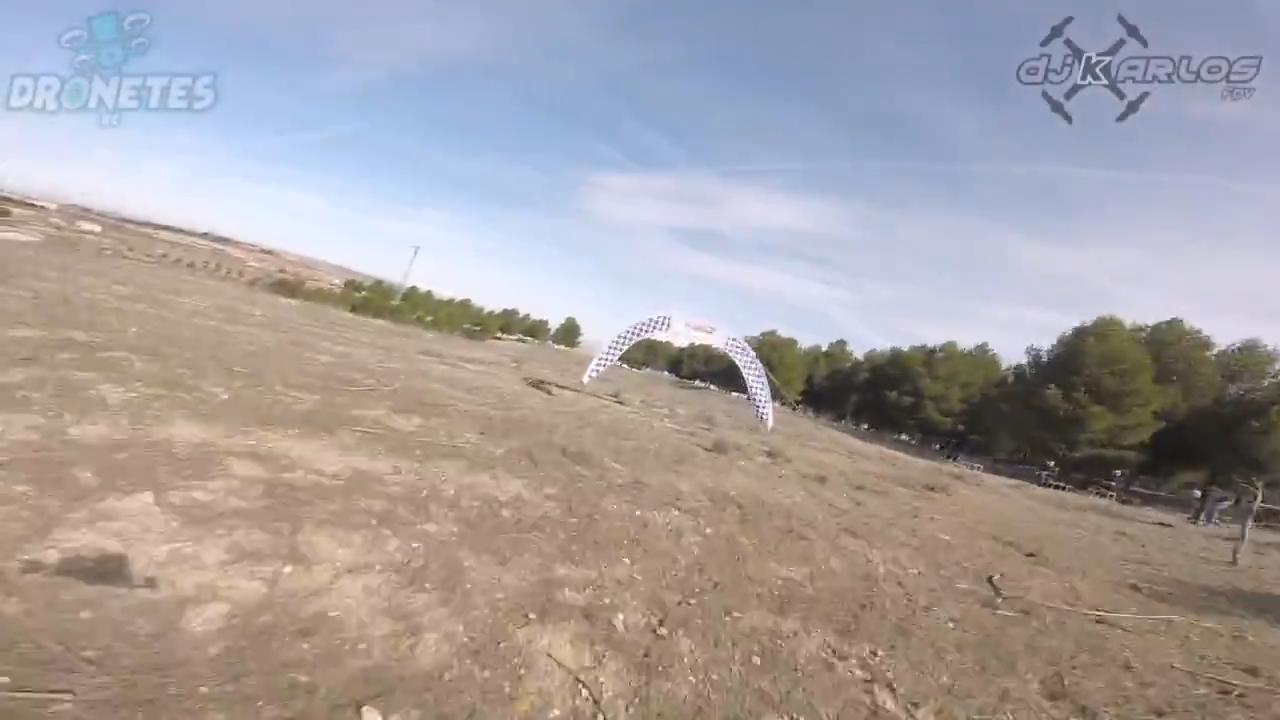gate: (583, 310, 775, 429)
